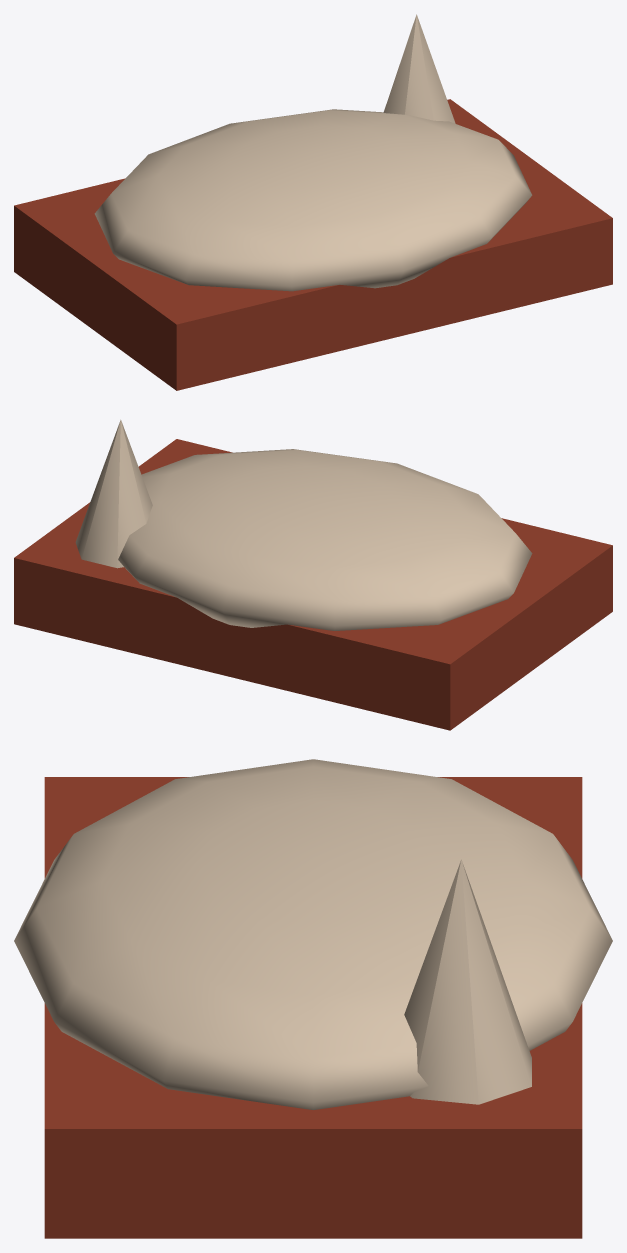
The model's file is home.glb.
The picture shows the model from 3 angles, top to bottom: view 1: azimuth 30°, elevation 25°; view 2: azimuth 150°, elevation 25°; view 3: azimuth 270°, elevation 25°; orthographic projection. The views are drawn at different scales.
Visible parts, largest first — view 1: home_cushion, home_base, home_marker; view 2: home_cushion, home_base, home_marker; view 3: home_cushion, home_base, home_marker.
Boxes of the visible parts, x1=… form: home_cushion: x1=94, y1=109, x2=532, y2=291; home_base: x1=14, y1=99, x2=612, y2=390; home_marker: x1=383, y1=14, x2=455, y2=123; home_cushion: x1=118, y1=449, x2=532, y2=630; home_base: x1=14, y1=439, x2=612, y2=730; home_marker: x1=75, y1=419, x2=152, y2=568; home_cushion: x1=14, y1=759, x2=612, y2=1109; home_base: x1=44, y1=777, x2=582, y2=1238; home_marker: x1=404, y1=859, x2=531, y2=1104.
Size of the model in its own units: 1.24 by 0.53 by 0.891.
